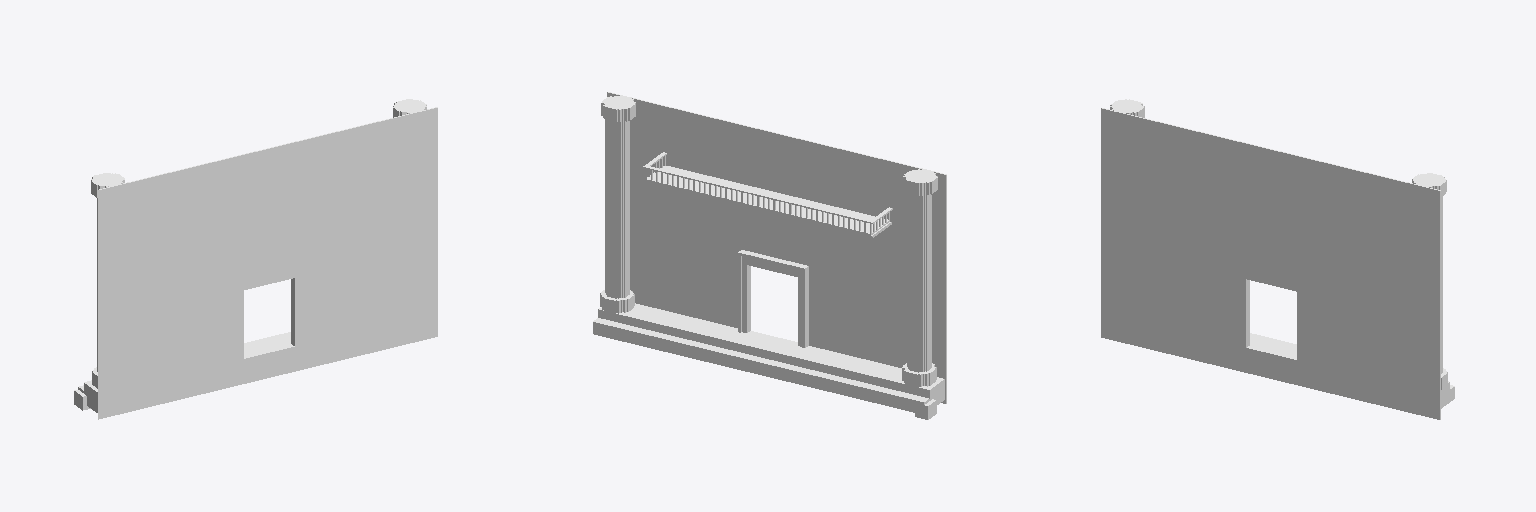
File: Bar1-3.obj
3 views of the same model, side by side, from view 1: azimuth 30°, elevation 25°; view 2: azimuth 150°, elevation 25°; view 3: azimuth 330°, elevation 25° (orthographic).
Parts seen in each view (by area): view 1: object 1; view 2: object 1; view 3: object 1.
Boxes of the visible parts, <box> form: object 1: <box>74,99,437,419</box>; object 1: <box>593,92,946,419</box>; object 1: <box>1101,99,1454,419</box>.
Size of the model in its own units: 25.6 by 16.4 by 2.8.